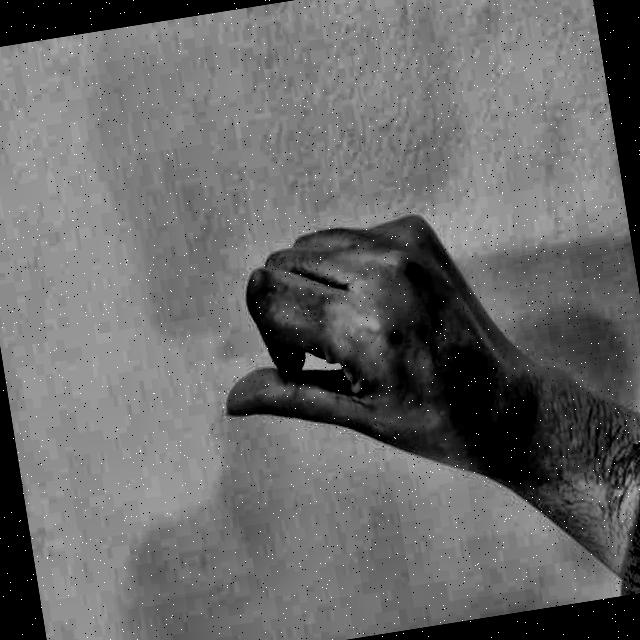Ay: (172, 153, 508, 541)
